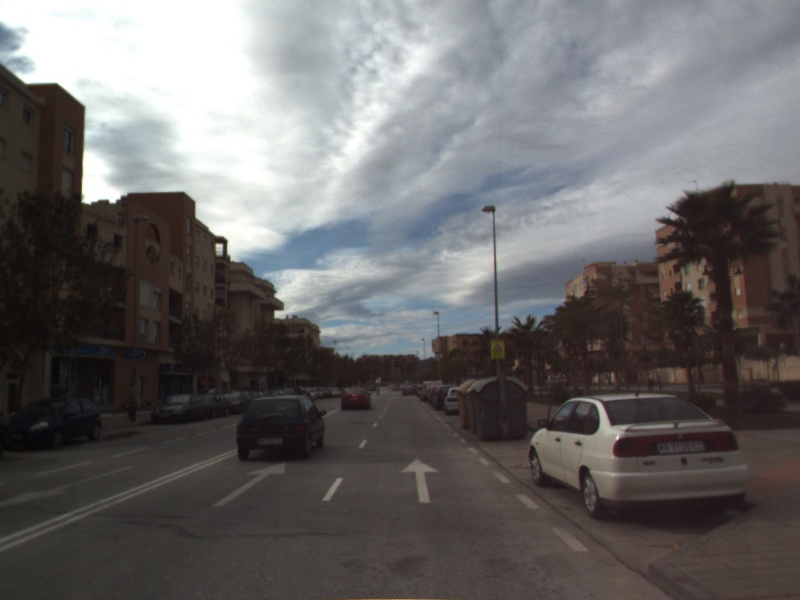STRAIGHT: (210, 459, 288, 509), (399, 456, 441, 505)
